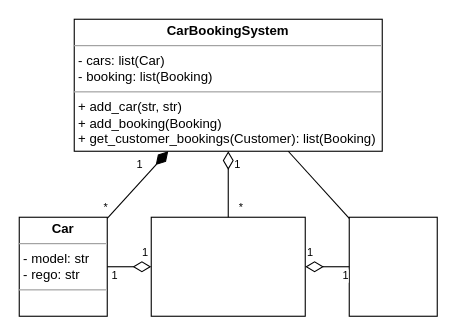
This 457x336 diagram has some shape labels left out. Here are the shapes that lost their labels. From the top down, the centre of each, then its label:
At pixel 227 266: "Booking - customer: Customer - car: Car".
At pixel 392 266: "Customer - name: str - licence: str".
